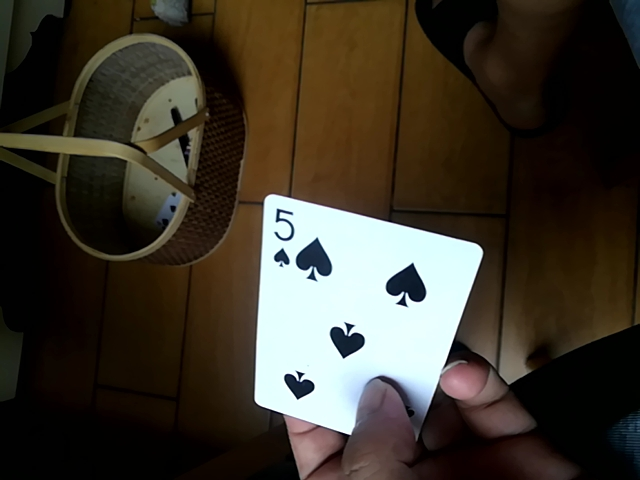ht 5: (254, 186, 480, 446)
